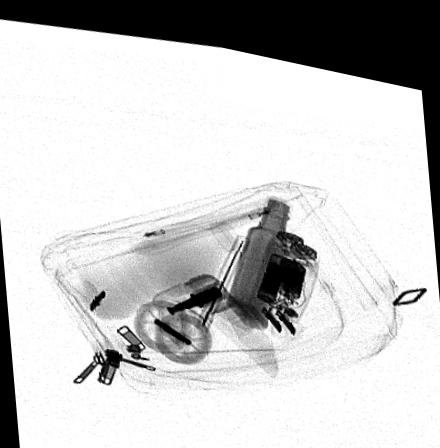Knife: (192, 222, 250, 325)
